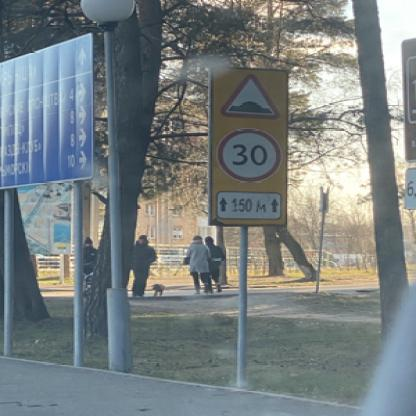Speed Limit 30: (218, 128, 282, 181)
